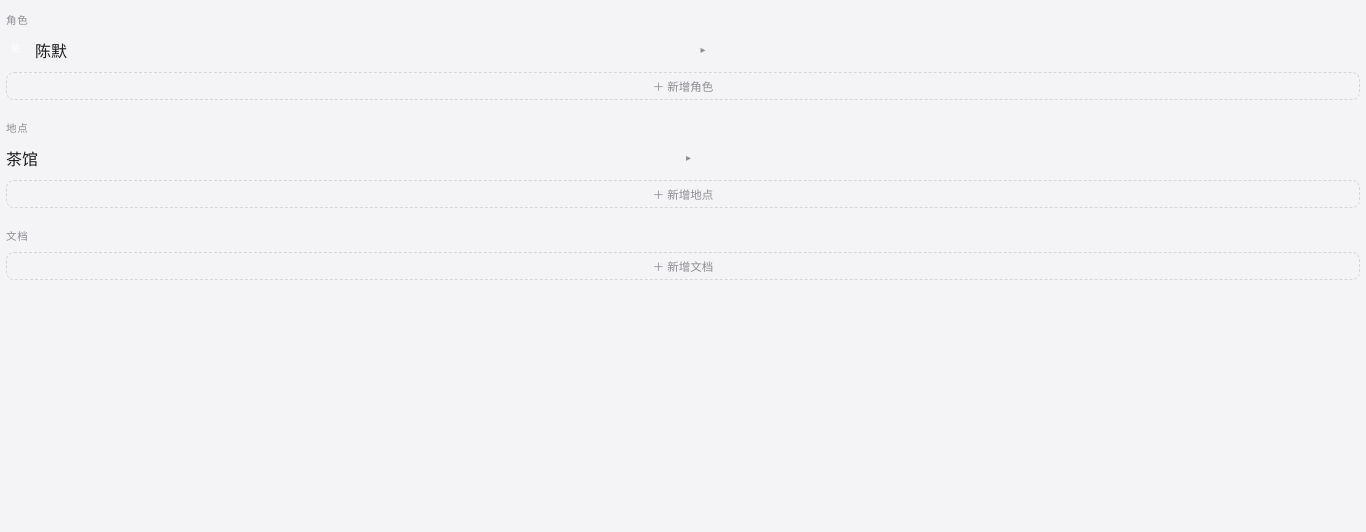
跨桶同 id 共存（PR #97 评审：独立 id 空间，数据模型 §8.1） › 点击角色展开钮只展开角色表单，不同时展开同 id 地点表单
Click the button named "编辑角色 陈默": (703, 50) x1=695 y1=43 x2=710 y2=57
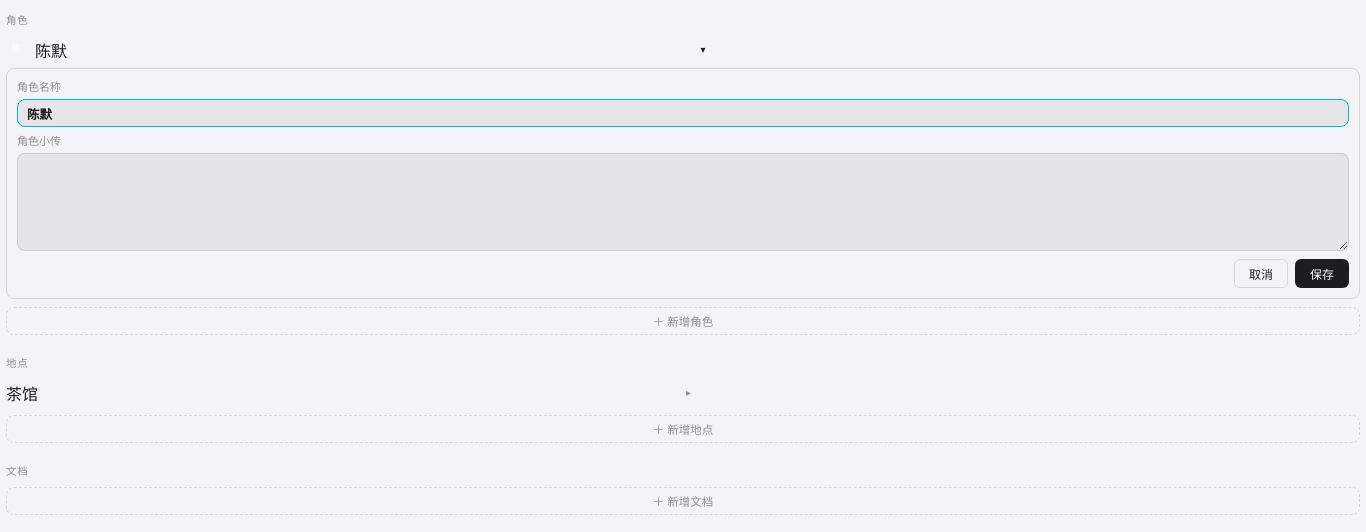
Expected: the field labelled "角色名称" is shown, x1=17 y1=99 x2=1349 y2=127
